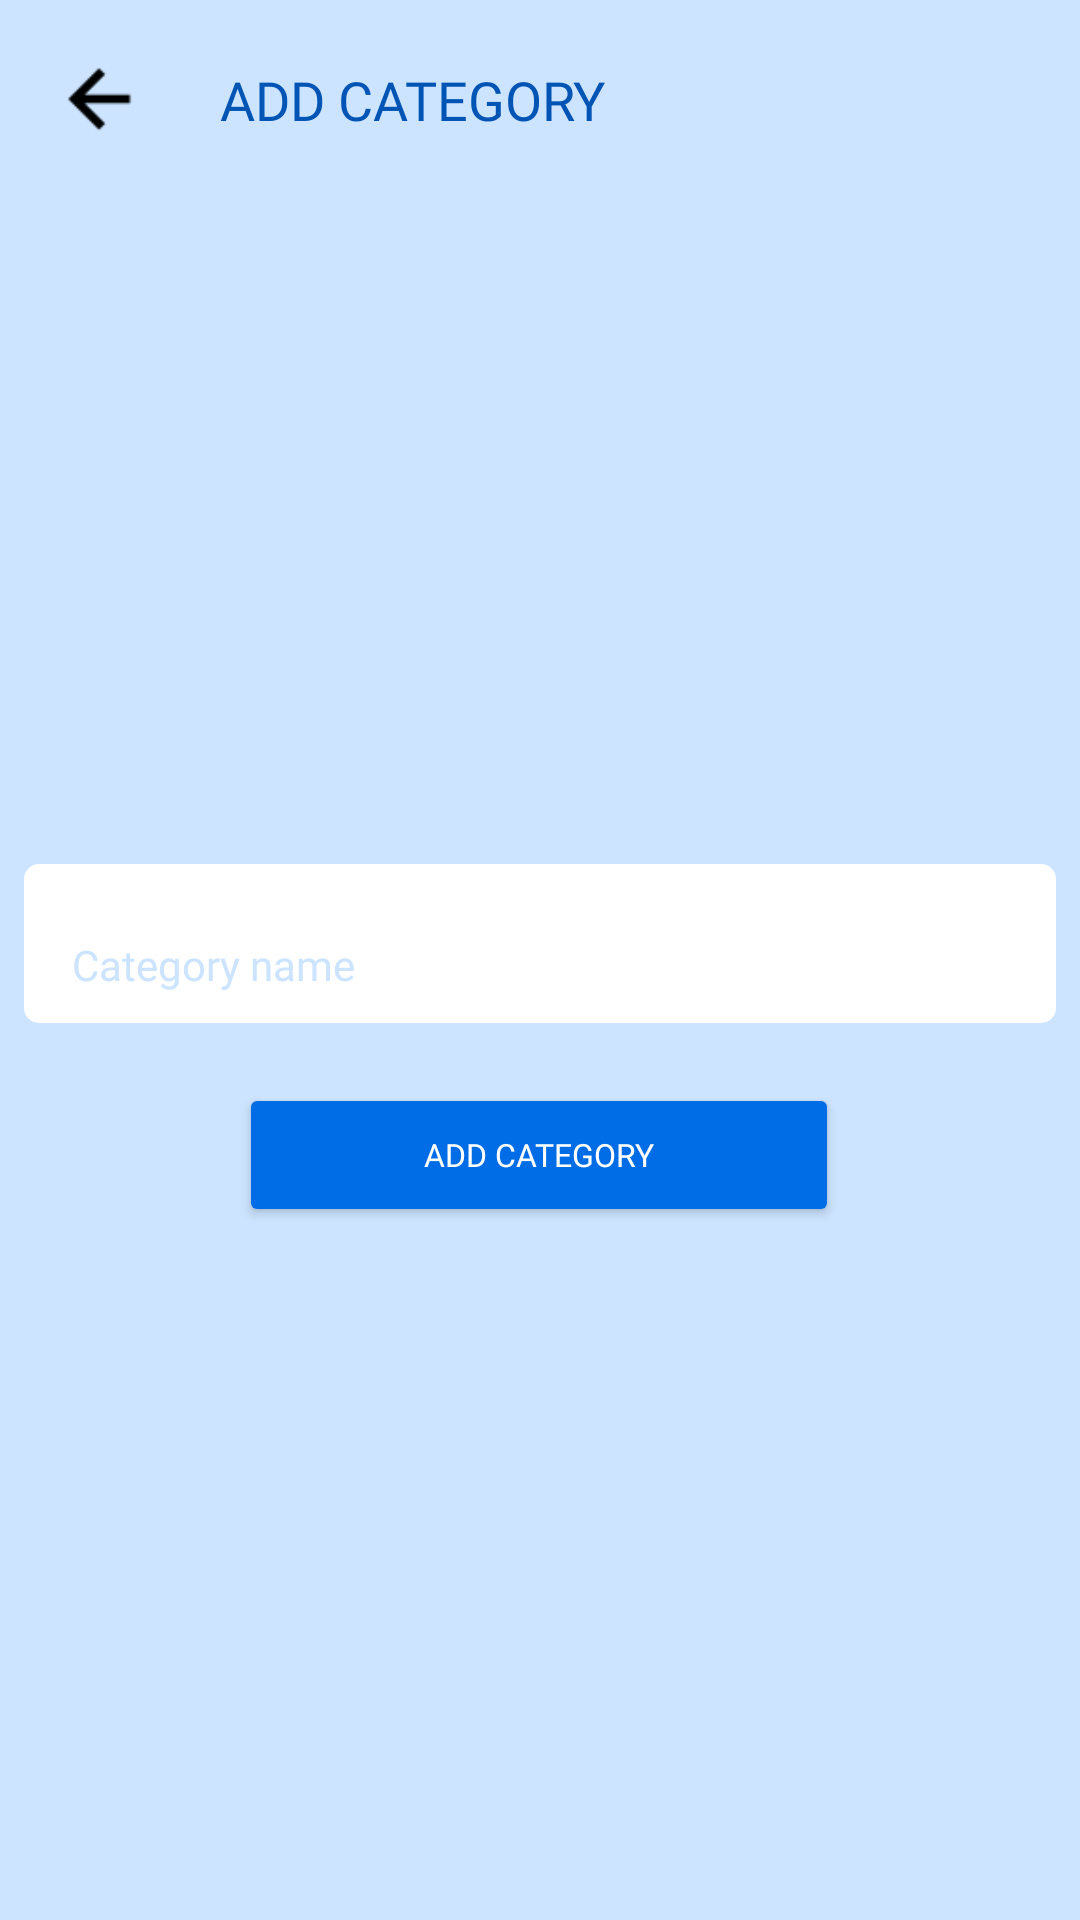

Icons on this 1080*1920 Android screen, each with its box as (left=x1, top=y1, right=x2, bottom=y2):
arrow back: (left=68, top=68, right=131, bottom=130)
